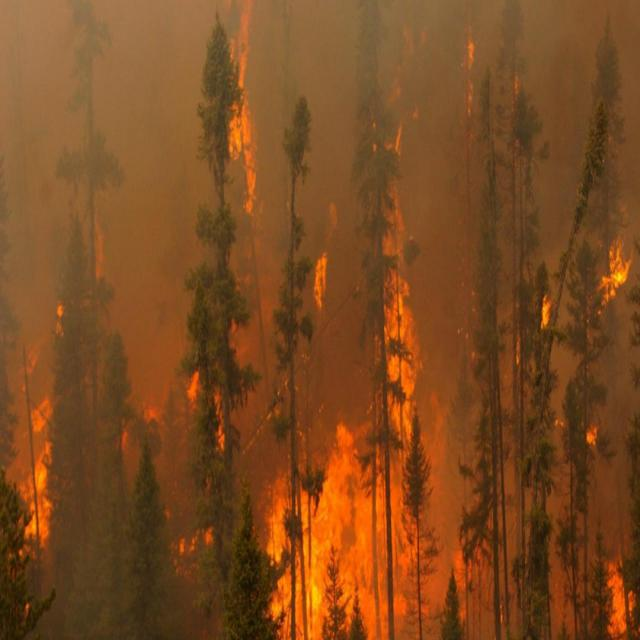fire: (273, 171, 419, 640), (227, 24, 264, 212), (20, 390, 49, 540)
